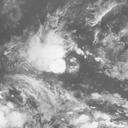cyclone: (22, 29, 70, 73)
